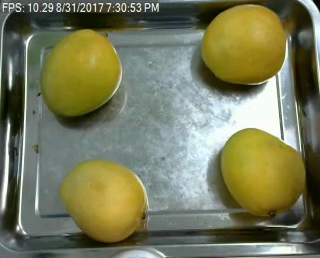Mango: (220, 129, 304, 215), (41, 29, 122, 116), (61, 160, 146, 241), (201, 4, 286, 84)
